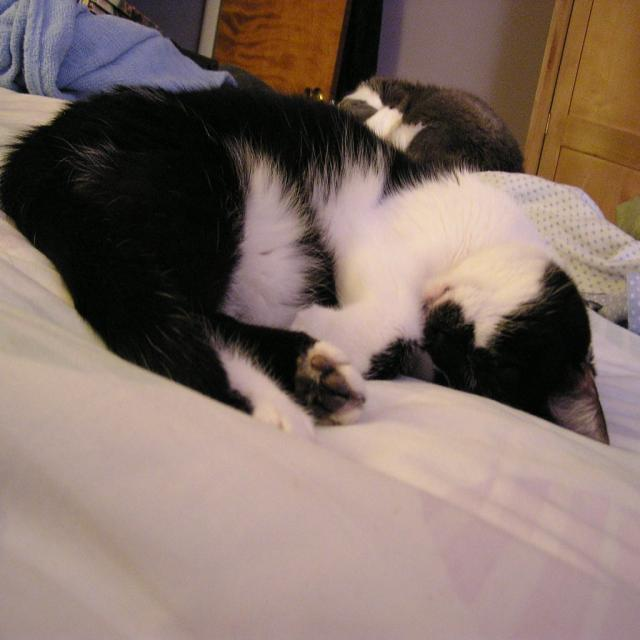Cat: (0, 95, 606, 443), (339, 76, 525, 172)
